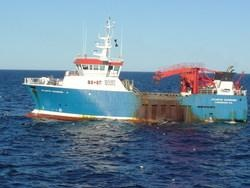otherboat: (20, 16, 250, 124)
